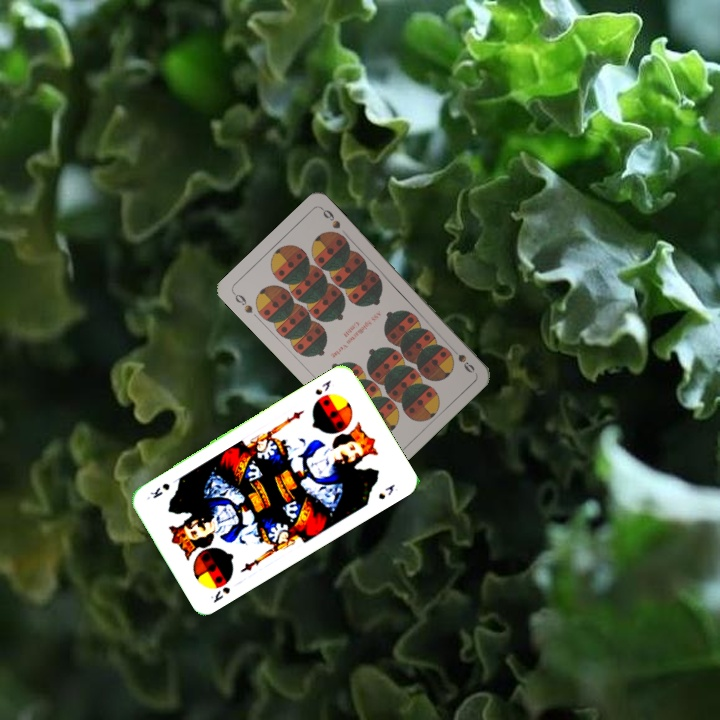S9: (446, 342, 478, 376), (229, 289, 255, 316)
SK: (206, 583, 233, 606), (311, 376, 334, 398)
